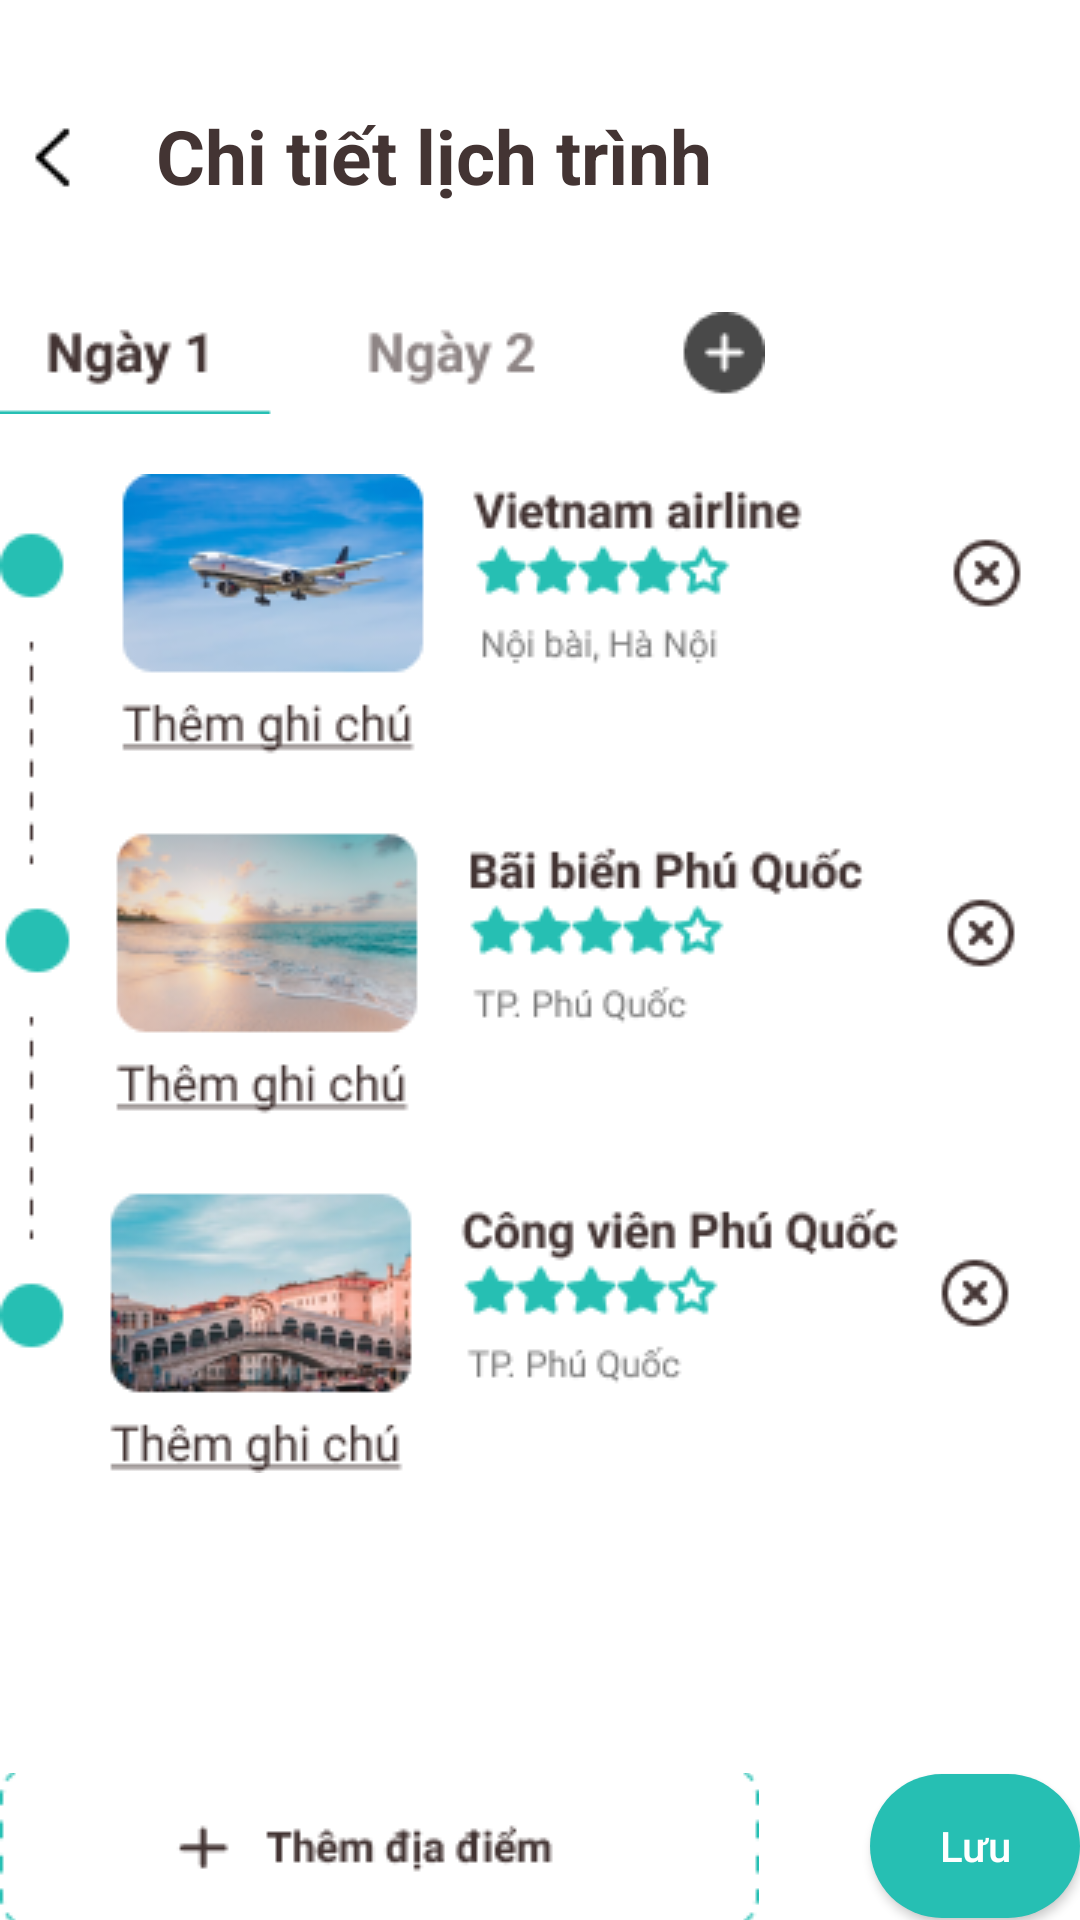

Point at icon controls on the screen. Image size 1080 × 1920, points as (x,y).
back: (52,157)
